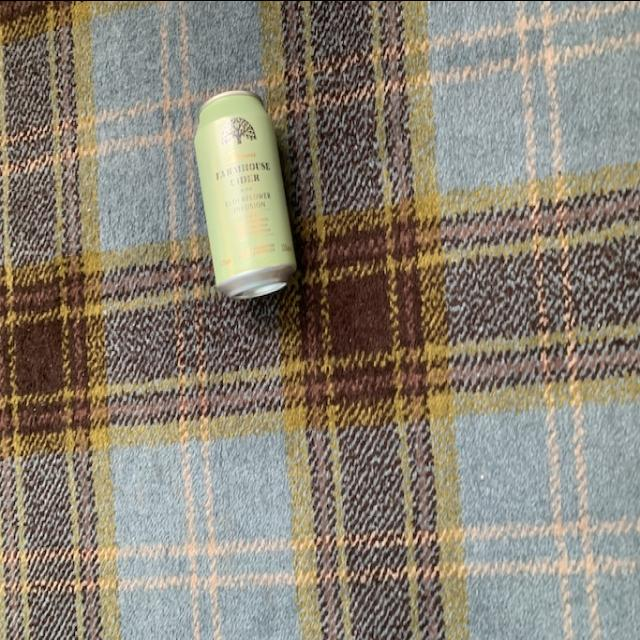Aluminum Can: (194, 84, 297, 304)
